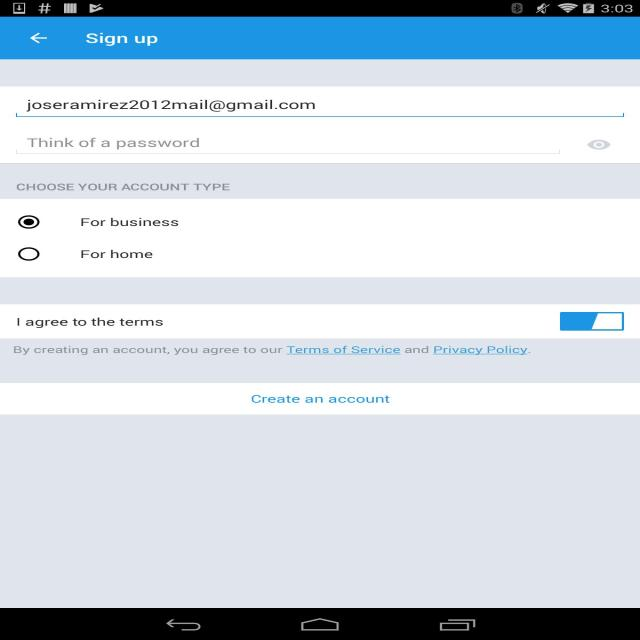button: (2, 382, 640, 413), (554, 310, 628, 332), (580, 133, 620, 151), (26, 27, 55, 50), (16, 212, 41, 231), (15, 246, 44, 262)
field: (13, 88, 624, 117), (16, 124, 623, 152)
heading: (86, 31, 161, 48)
label: (22, 132, 205, 151), (76, 216, 182, 229), (77, 245, 157, 262)
link: (281, 345, 533, 356)
text: (10, 344, 537, 358), (22, 98, 317, 114), (16, 181, 232, 193), (15, 314, 166, 330)
